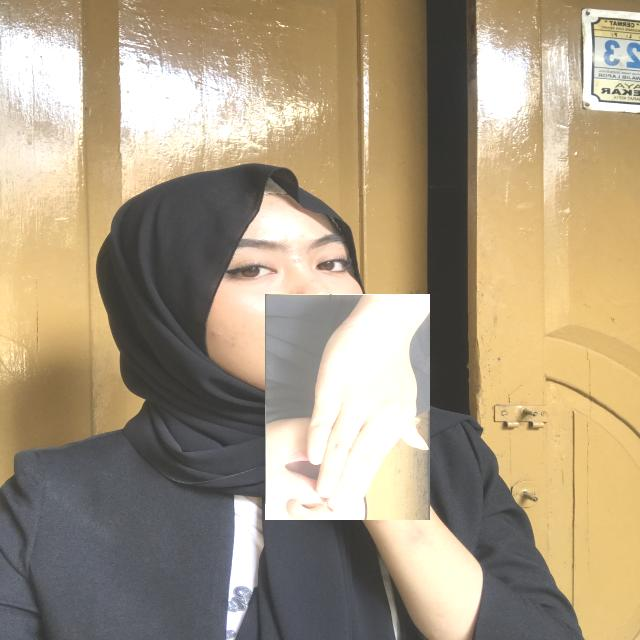ngantuk: (265, 294, 430, 520)
